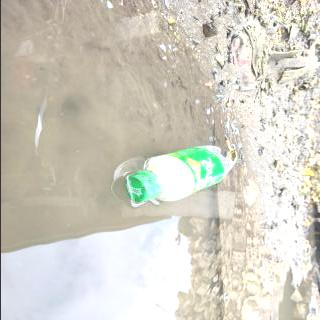bottle: (123, 145, 236, 206)
